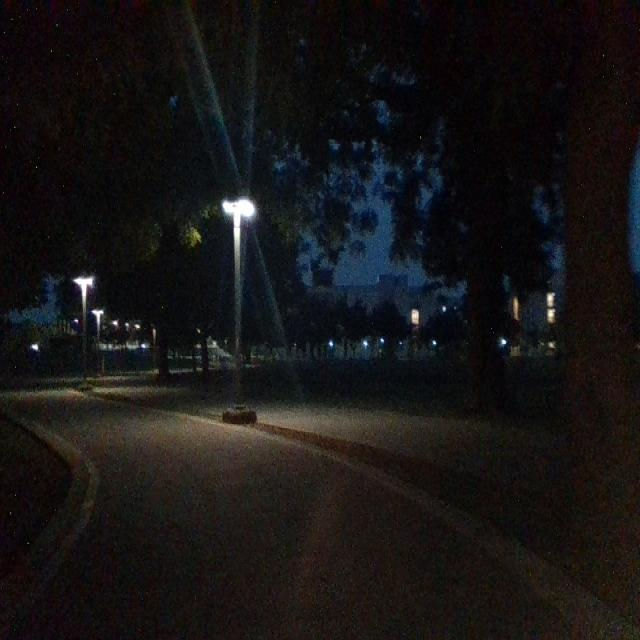lane: (6, 393, 612, 630)
